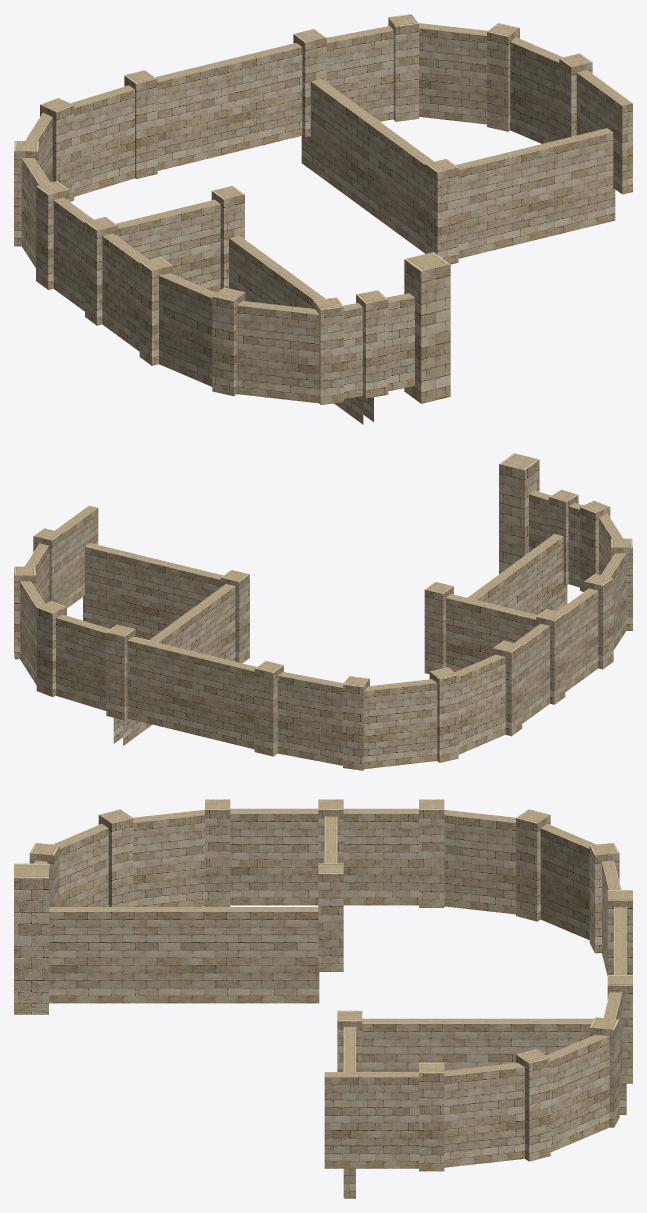
Rendered from poi_nboo_corral_32x32_s01_l0.fbx.
3 renders of one model, top to bottom at view 1: azimuth 30°, elevation 25°; view 2: azimuth 150°, elevation 25°; view 3: azimuth 270°, elevation 25°, orthographic. The views are drawn at different scales.
Visible parts, largest first — view 1: mesh_node; view 2: mesh_node; view 3: mesh_node.
Boxes of the visible parts, box(x1,y1,x2,y2) form: mesh_node: box(14, 14, 632, 424); mesh_node: box(14, 453, 632, 770); mesh_node: box(14, 799, 632, 1198).
Size of the model in its own units: 25.75 by 6.92 by 24.59.
